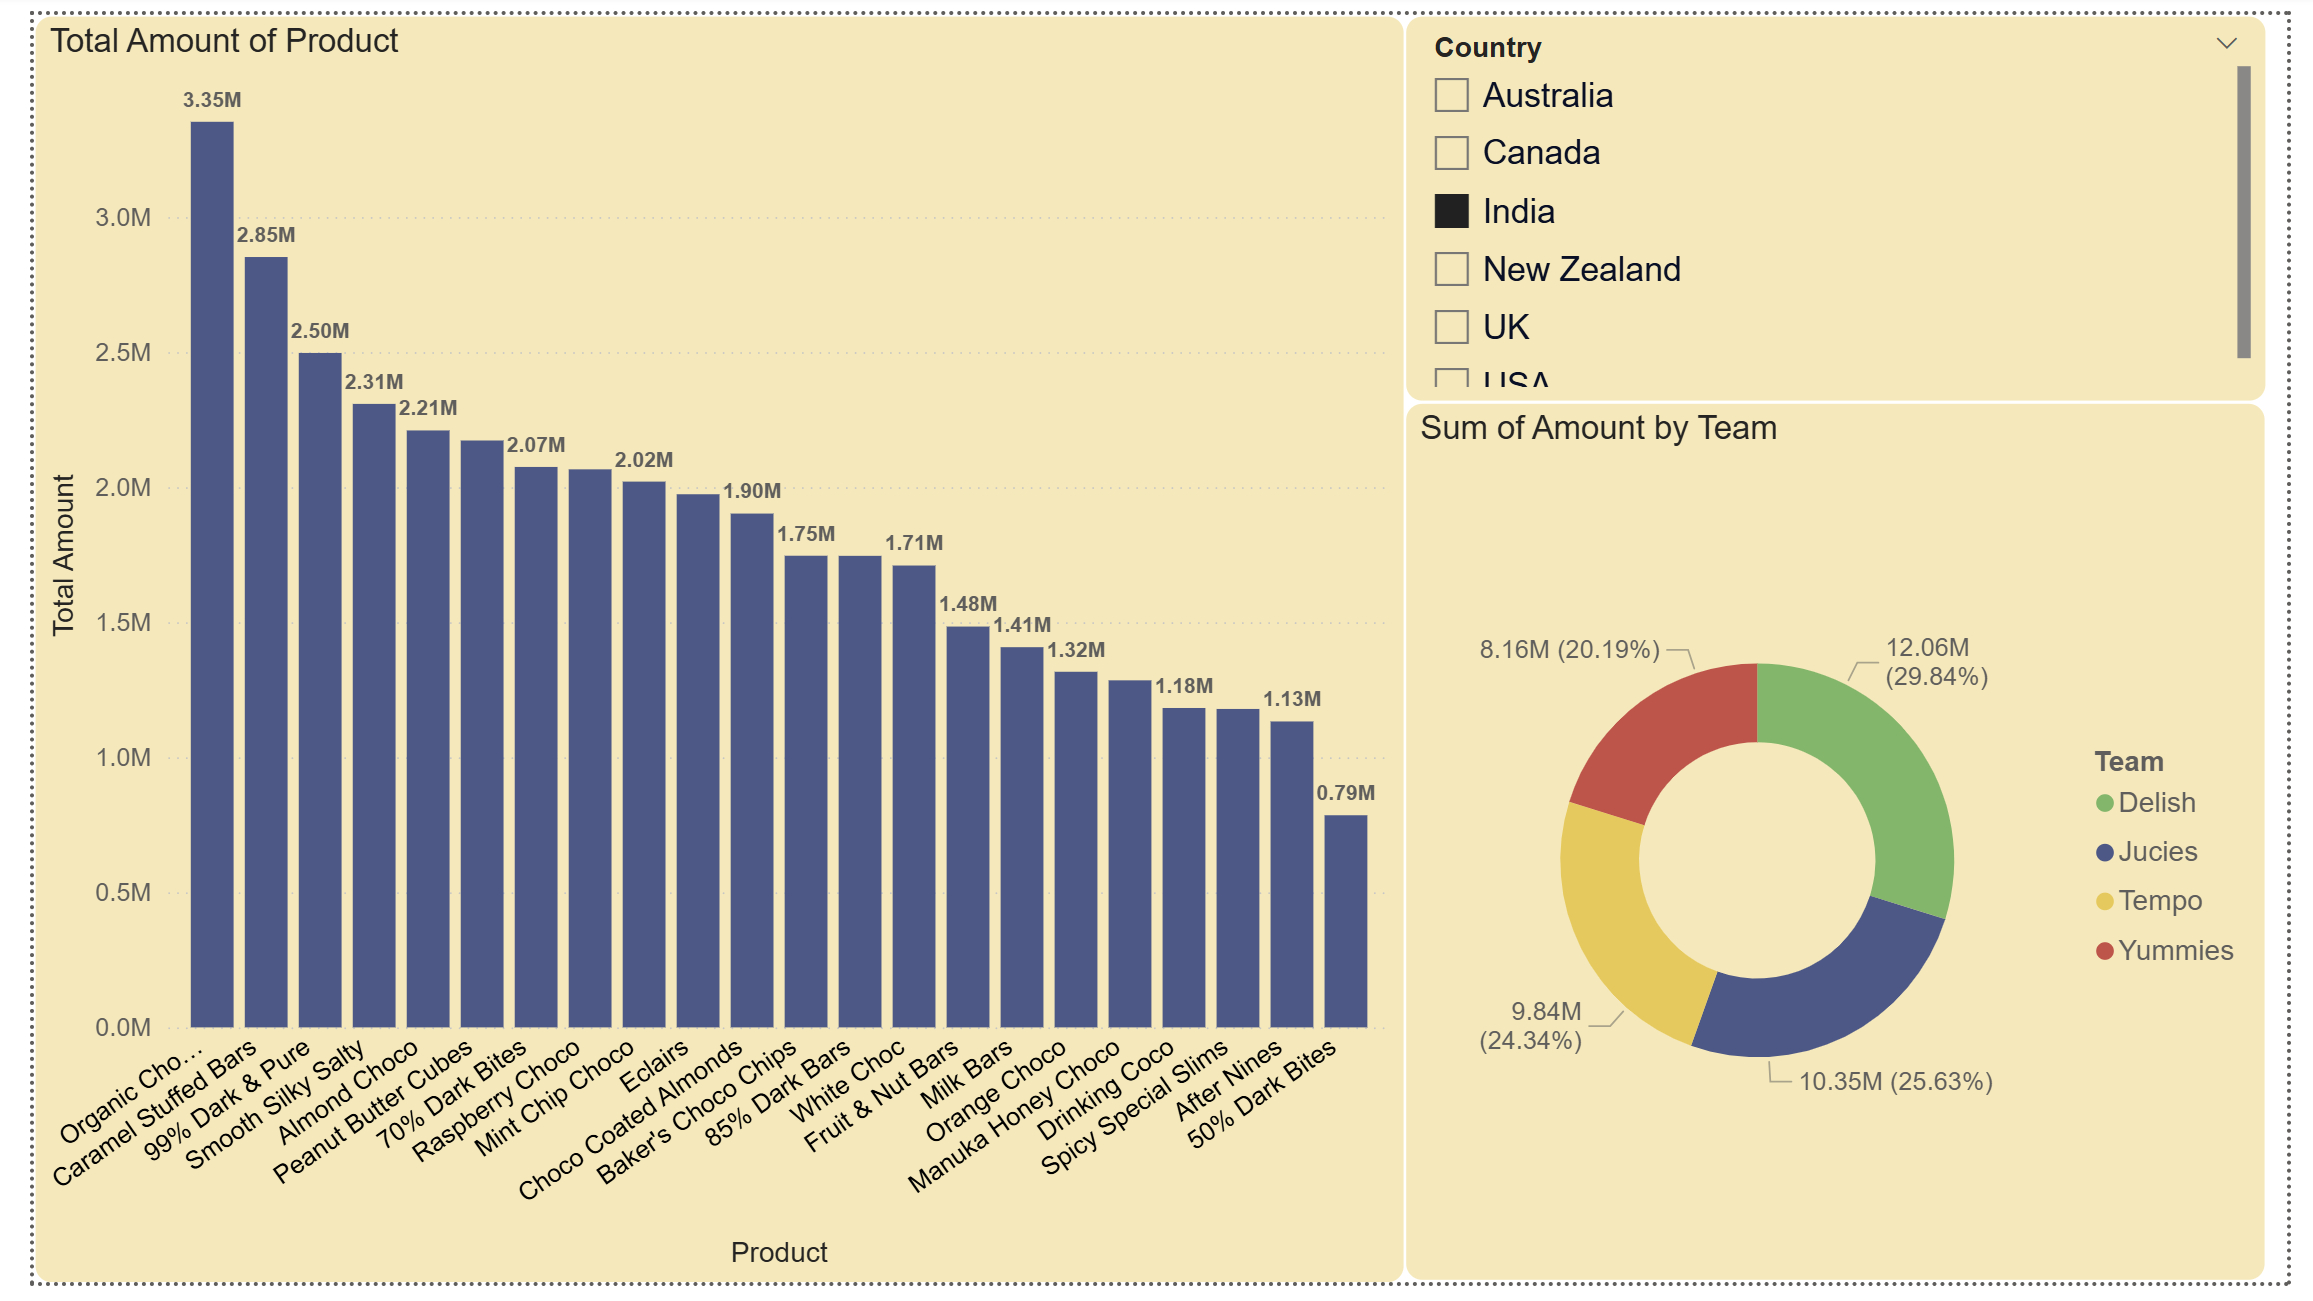

The dashboard page shown, as its layout file describes it:
{"tool":"powerbi","page":{"name":"Page 1","canvas":[1280,720],"ordinal":0},"visuals":[{"type":"columnChart","title":"Total Amount of Product","fields":{"Category":["products.Product"],"Y":["Sum(shipments.Amount)"]},"box":[0,0,779,720.9],"z":0},{"type":"slicer","fields":{"Values":["locations.Geo"]},"box":[778.3,0,490,220],"z":1000},{"type":"donutChart","fields":{"Y":["Sum(shipments.Amount)"],"Category":["people.Team"]},"box":[778.7,220.4,489.5,499.6],"z":2000}]}

Visuals, with their boxes in screenshot pixels (x1, y1, x2, y2), scaled from the page's 1280x720 canvas onto the 2313x1301 screenshot:
"Total Amount of Product" columnChart: x1=0 y1=0 x2=1408 y2=1300
slicer - locations.Geo: x1=1406 y1=0 x2=2292 y2=398
donutChart - Sum(shipments.Amount) x people.Team: x1=1407 y1=398 x2=2292 y2=1300
